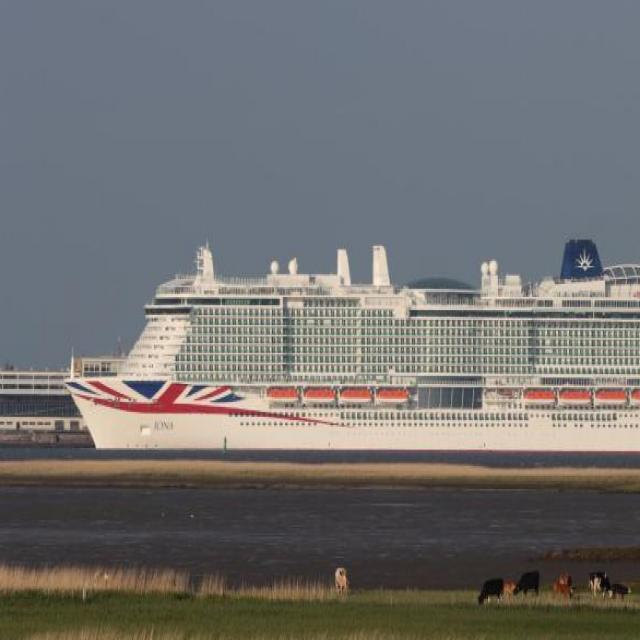cruises: (62, 198, 640, 477)
